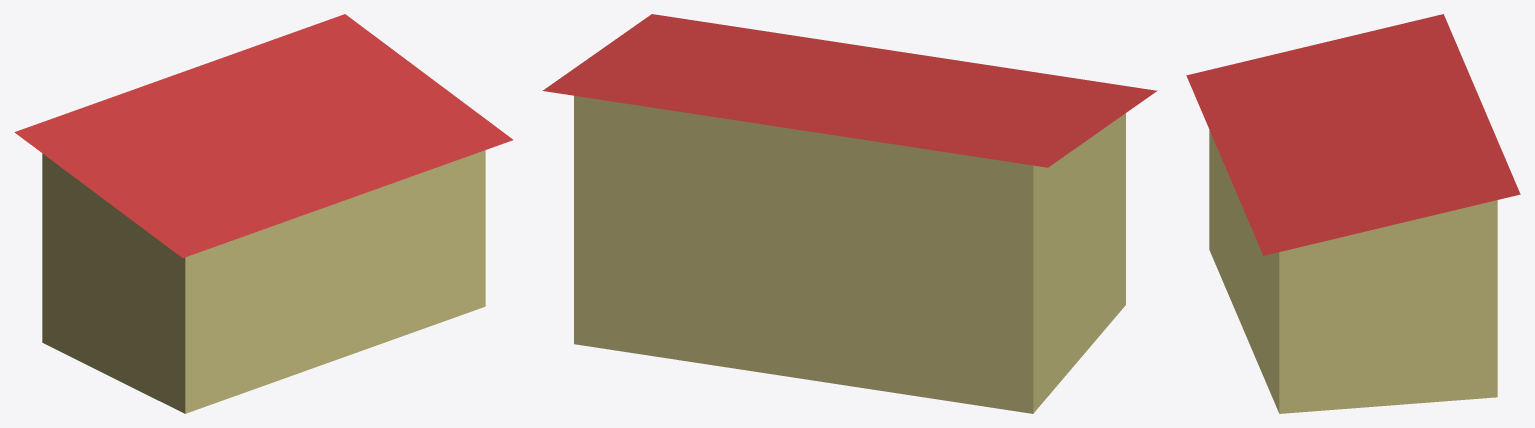
The picture shows the model from 3 angles, left to right: view 1: azimuth 30°, elevation 25°; view 2: azimuth 150°, elevation 25°; view 3: azimuth 270°, elevation 25°; orthographic projection. The views are drawn at different scales.
Size of the model in its own units: 17.83 by 12.59 by 8.71.
